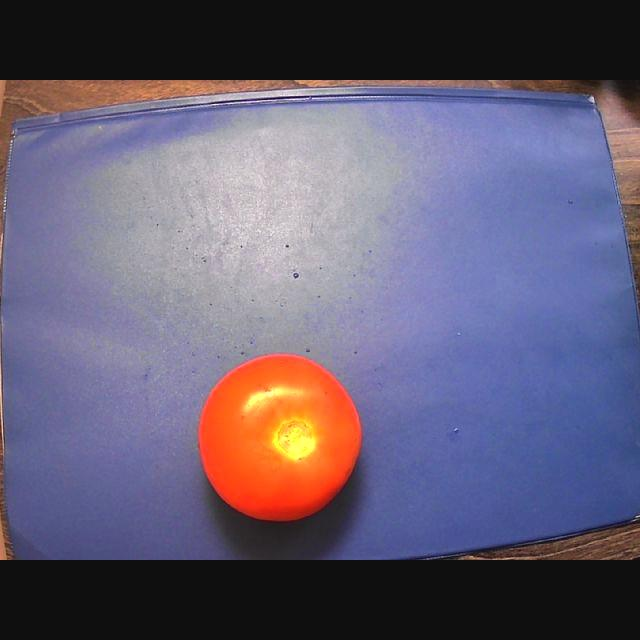tomate: (199, 354, 361, 520)
